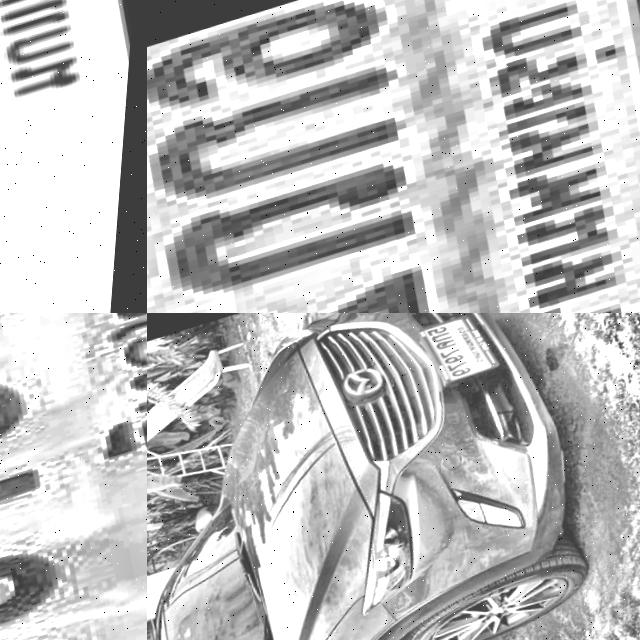license-plate: (147, 0, 640, 313), (0, 313, 147, 640), (0, 0, 147, 313), (401, 313, 518, 402)
